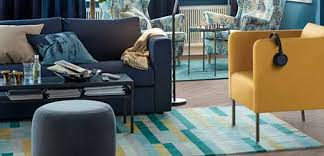chair: (1, 21, 173, 110), (227, 23, 324, 138), (99, 1, 187, 43), (202, 3, 282, 29)
